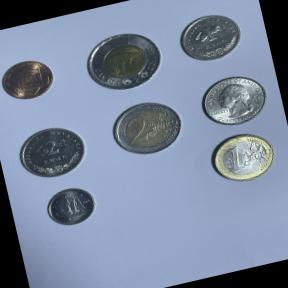coin: (76, 21, 172, 102), (102, 92, 192, 164), (11, 117, 96, 186), (192, 66, 274, 135), (202, 124, 282, 190), (37, 180, 105, 234), (0, 52, 60, 106)
